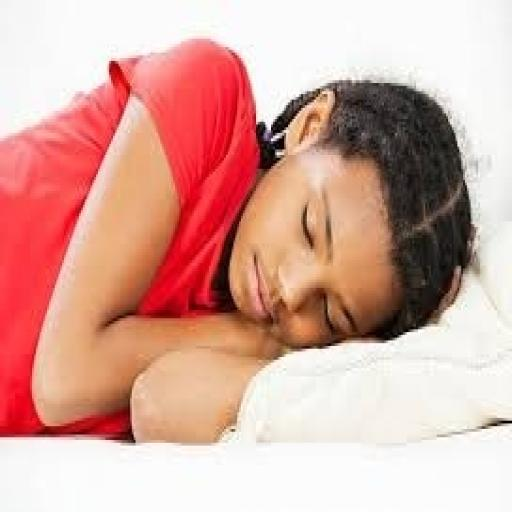sleeping: (0, 33, 480, 446)
